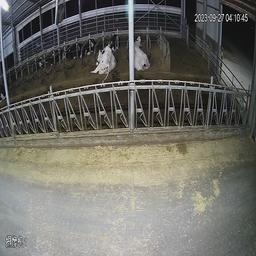cow: (133, 31, 155, 76), (91, 44, 120, 78), (50, 43, 64, 69), (66, 43, 80, 63)
